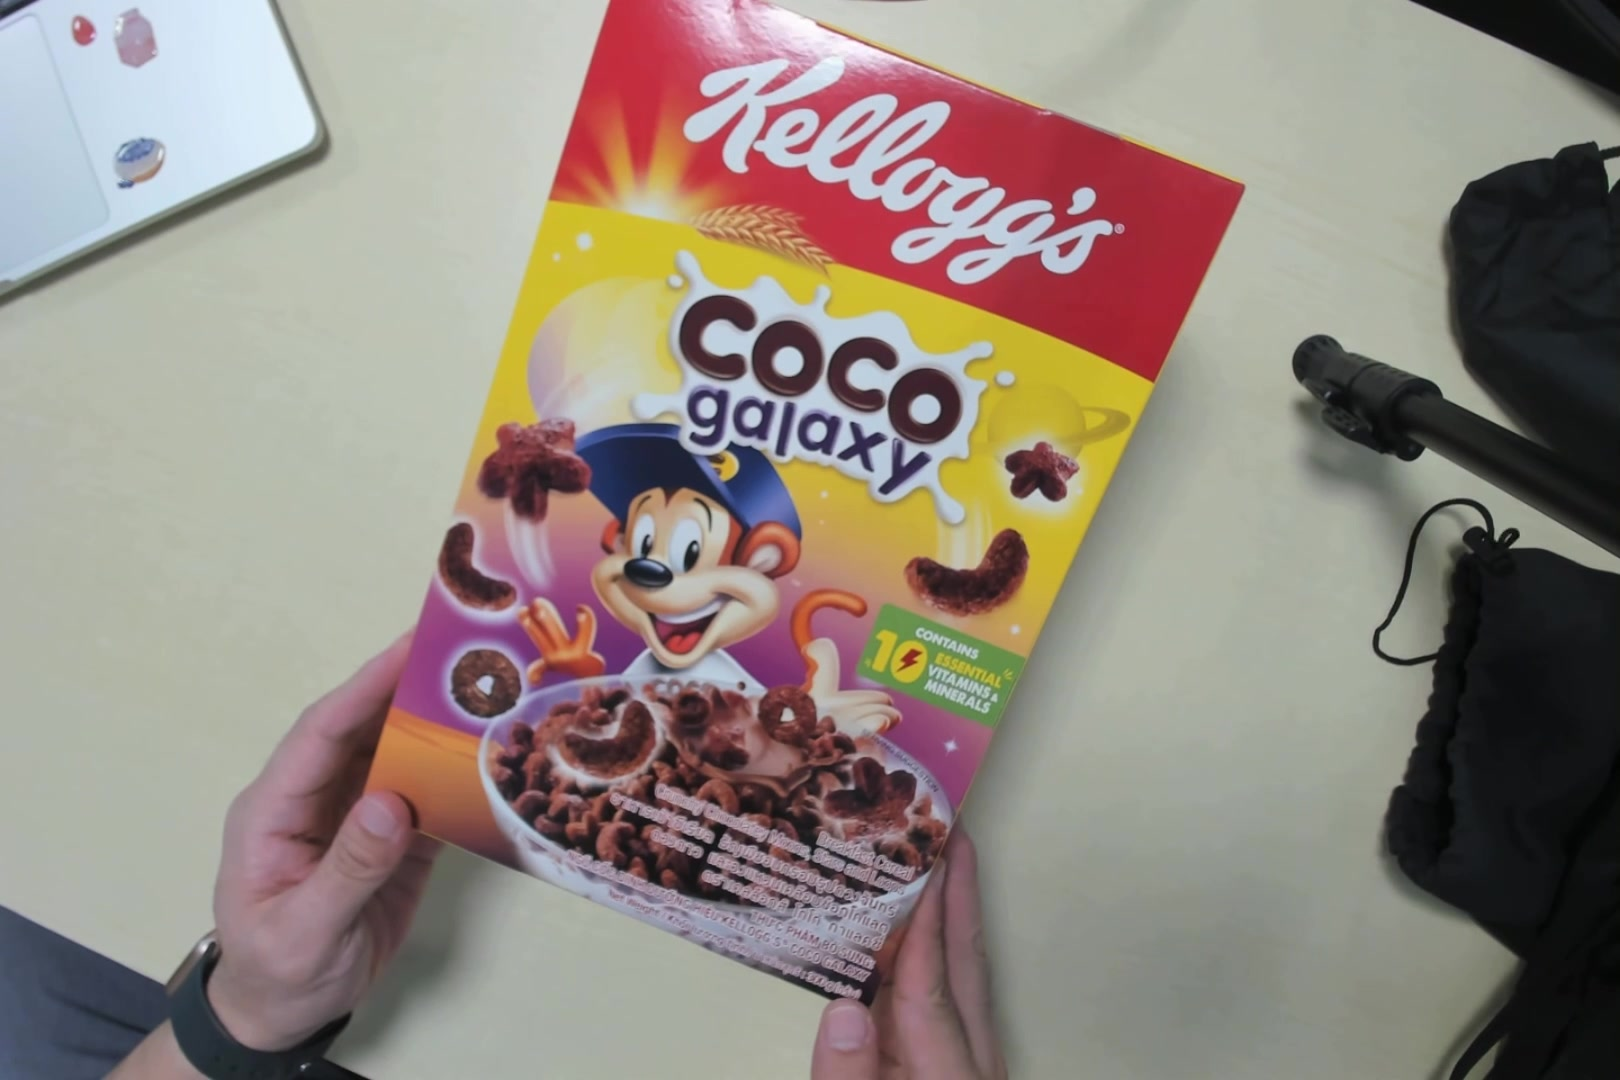BreakfastCereals_300-399g_Halal_NonHealthy: (360, 13, 1242, 1004)
